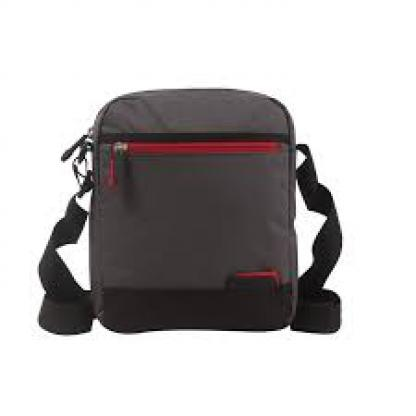morral: (35, 78, 366, 356)
